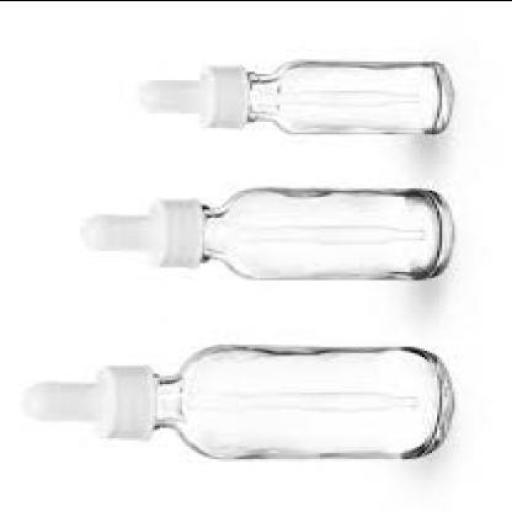glass: (152, 347, 455, 460), (200, 187, 452, 281), (245, 62, 452, 137)
plastic: (20, 366, 150, 439), (77, 200, 200, 268), (137, 67, 245, 129)
